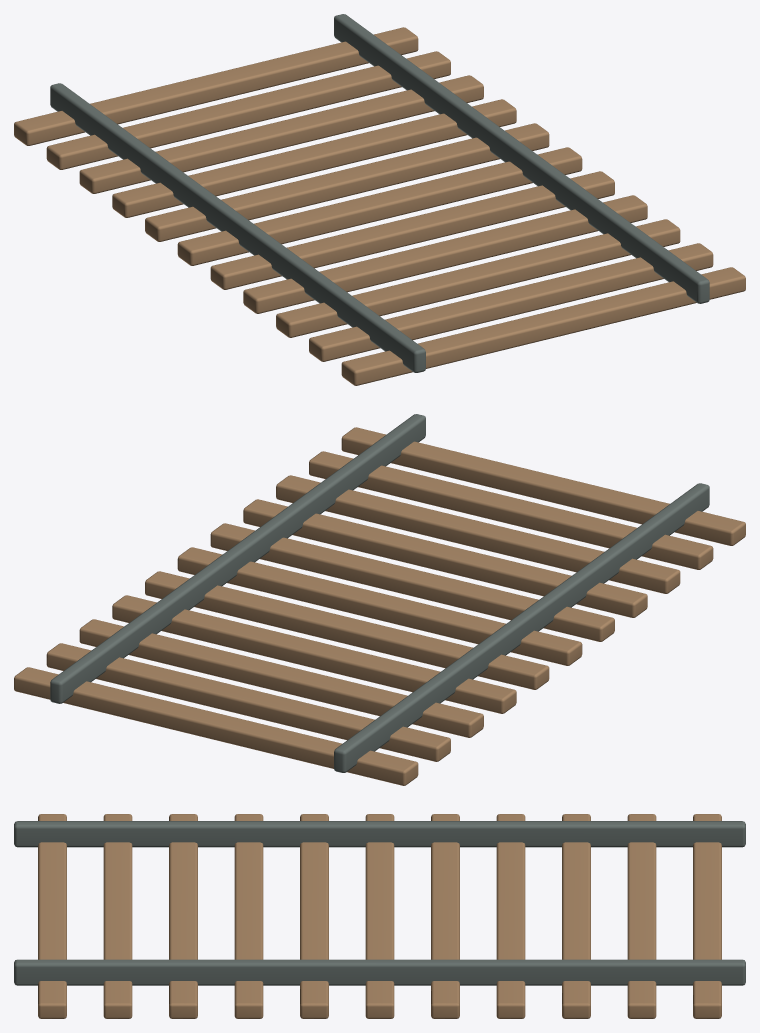
The model's file is Rail.fbx.
The picture shows the model from 3 angles, top to bottom: view 1: azimuth 30°, elevation 25°; view 2: azimuth 150°, elevation 25°; view 3: azimuth 270°, elevation 25°; orthographic projection.
Parts seen in each view (by area): view 1: Wood.003, Iron.003; view 2: Wood.003, Iron.003; view 3: Wood.003, Iron.003.
Part boxes in pixels (box(x1,y1,x2,y2)): Wood.003: box(14, 27, 745, 385); Iron.003: box(50, 14, 709, 372); Wood.003: box(14, 427, 745, 785); Iron.003: box(50, 414, 709, 772); Wood.003: box(38, 814, 721, 1018); Iron.003: box(14, 821, 745, 985).
Bounding box in the file's own units: 235 × 18.5 × 380.
